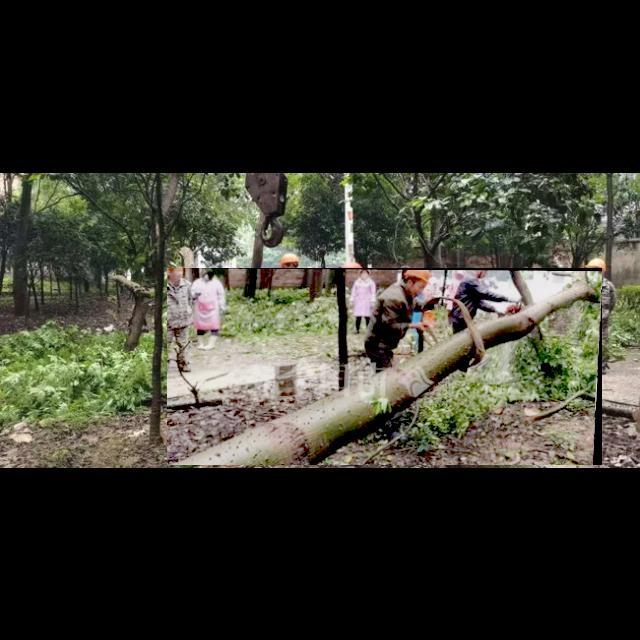fallen_tree: (167, 268, 603, 466)
